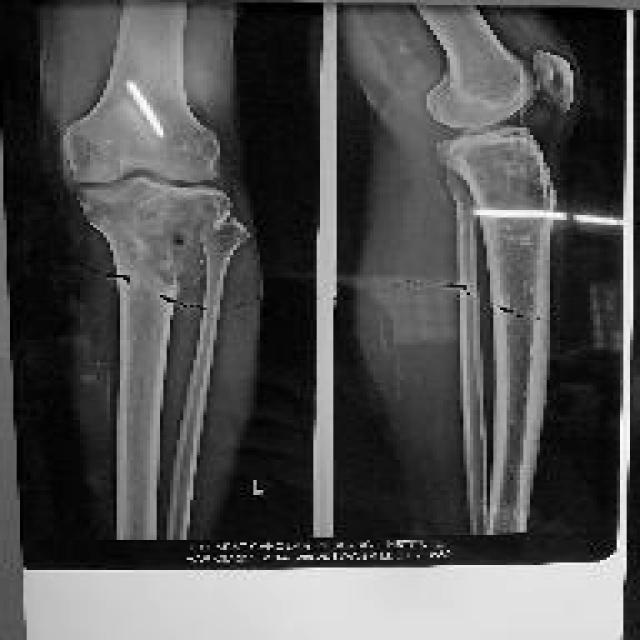bone-cancer: (135, 185, 232, 298), (457, 138, 552, 208), (495, 219, 550, 236)
